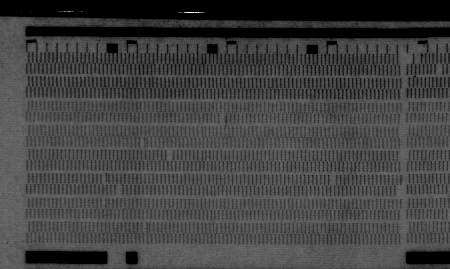Broken hole: (408, 52, 424, 67), (217, 111, 229, 124), (327, 173, 339, 186), (113, 185, 124, 198), (165, 150, 176, 162), (393, 184, 403, 196), (435, 65, 445, 76)
Oblique printing: (137, 136, 150, 151), (139, 220, 152, 234), (99, 172, 112, 186)
